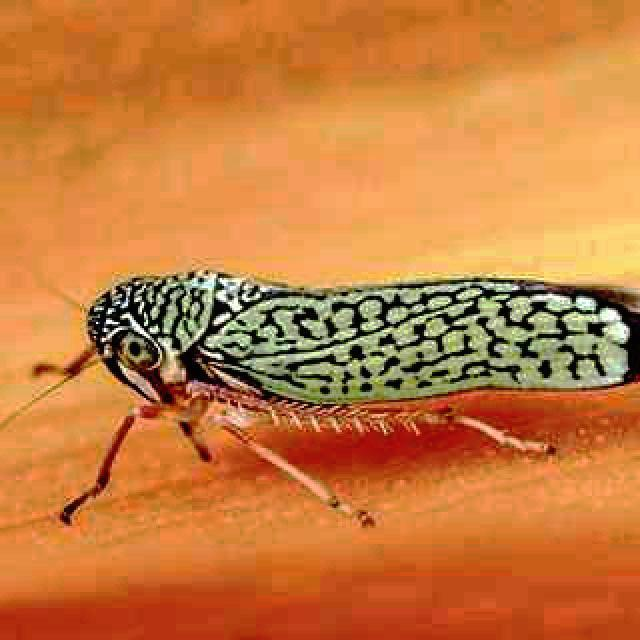green-leafhopper: (30, 273, 639, 531)
